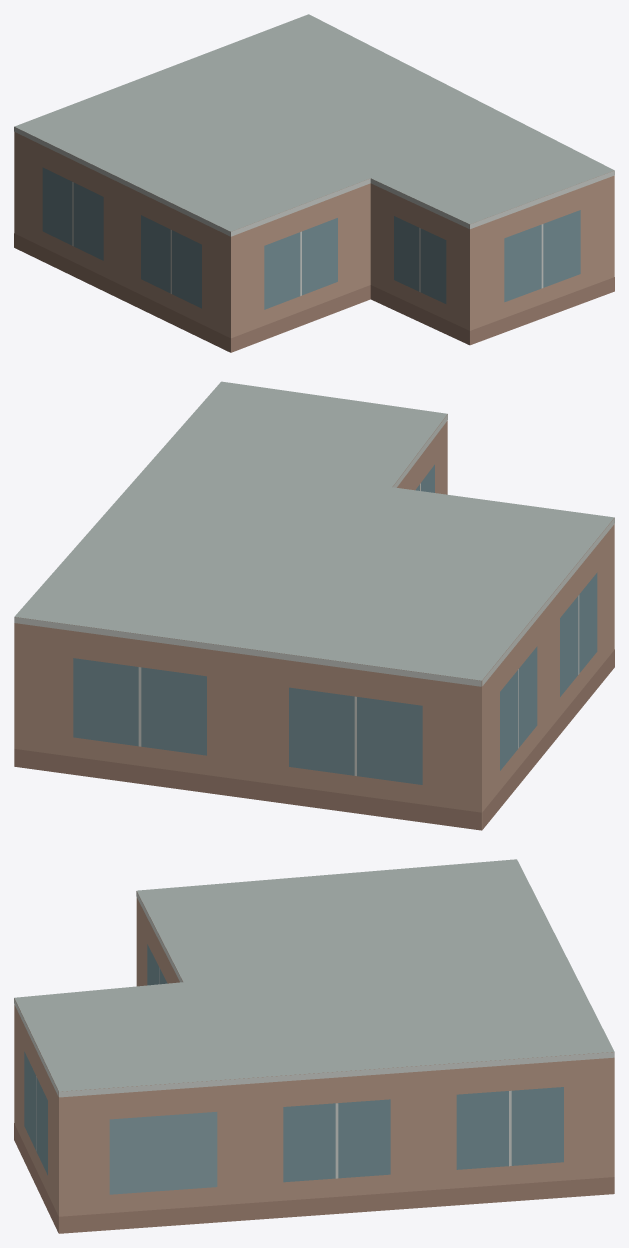
The model's file is survey-upis-32986090.glb.
3 renders of one model, top to bottom at view 1: azimuth 30°, elevation 25°; view 2: azimuth 150°, elevation 25°; view 3: azimuth 270°, elevation 25°, orthographic. The views are drawn at different scales.
Parts seen in each view (by area): view 1: survey-upis-32986090.tmp; view 2: survey-upis-32986090.tmp; view 3: survey-upis-32986090.tmp.
Boxes of the visible parts, <box> form: survey-upis-32986090.tmp: <box>14,14,614,352</box>; survey-upis-32986090.tmp: <box>14,381,614,830</box>; survey-upis-32986090.tmp: <box>14,859,614,1233</box>.
Bounding box in the file's own units: 10.71 × 3.05 × 11.69.
